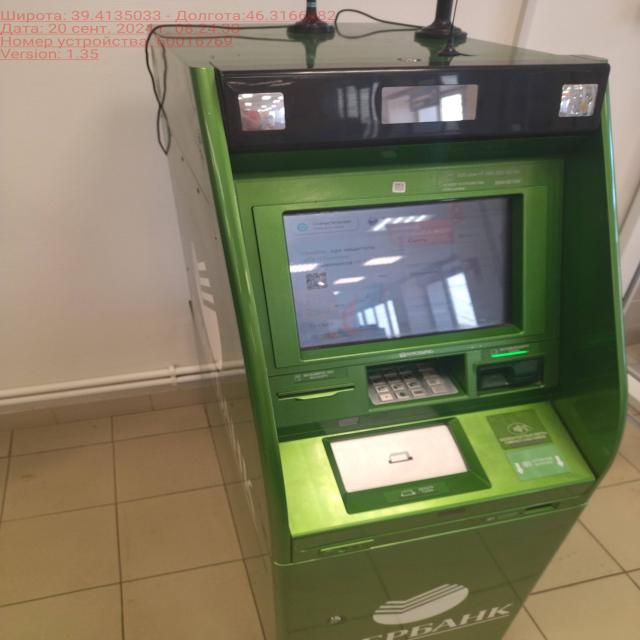bank: (151, 25, 629, 640)
